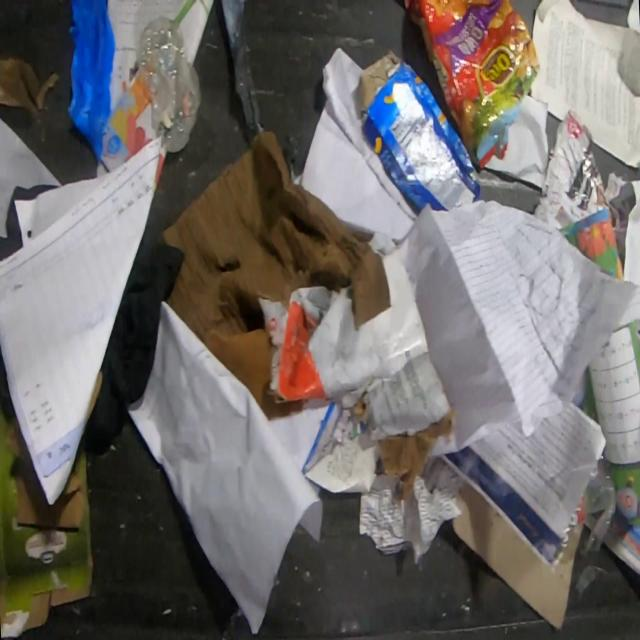cardboard: (161, 129, 390, 420), (257, 244, 456, 499), (403, 0, 540, 169), (0, 400, 96, 638), (355, 47, 480, 216), (450, 479, 576, 632), (0, 54, 62, 134)
rigid_plastic: (136, 14, 202, 154)
soft_plastic: (81, 233, 185, 455), (541, 455, 618, 565), (66, 0, 116, 165), (219, 0, 268, 147), (280, 131, 300, 164)
